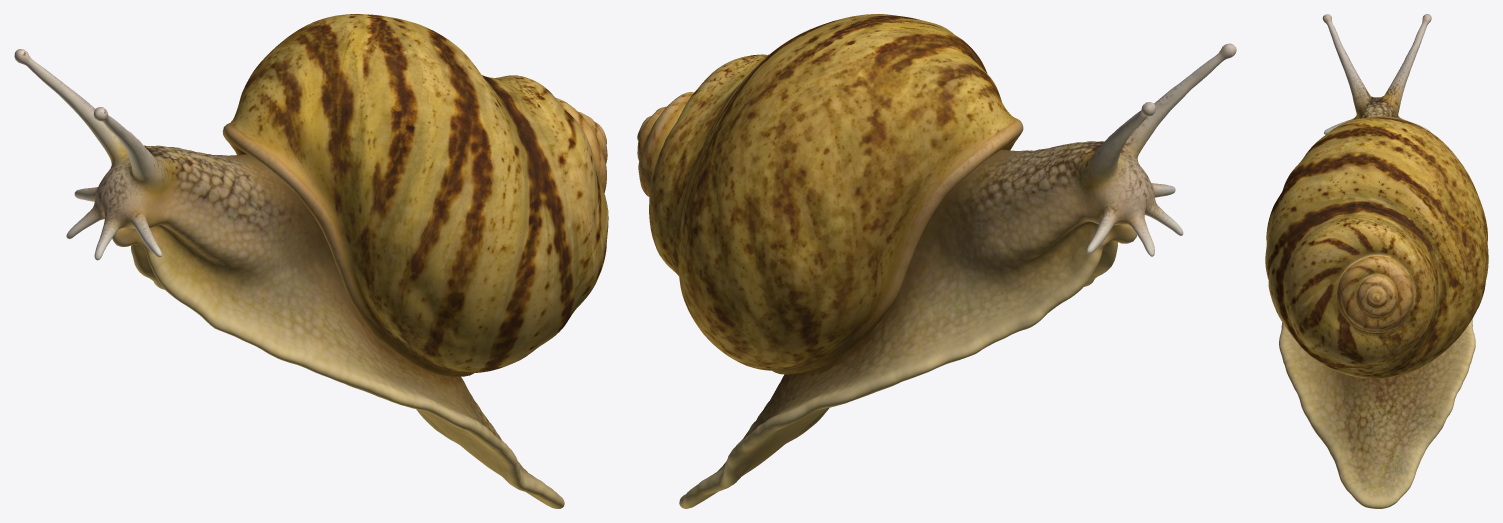
File: snail+3d+model 2.glb
The picture shows the model from 3 angles, left to right: view 1: azimuth 30°, elevation 25°; view 2: azimuth 150°, elevation 25°; view 3: azimuth 270°, elevation 25°; orthographic projection. The views are drawn at different scales.
Visible parts, largest first — view 1: tripo_node_17378bcd-b5f5-4cf7-b998-edd00bba9314; view 2: tripo_node_17378bcd-b5f5-4cf7-b998-edd00bba9314; view 3: tripo_node_17378bcd-b5f5-4cf7-b998-edd00bba9314.
Part boxes in pixels (<box>): tripo_node_17378bcd-b5f5-4cf7-b998-edd00bba9314: <box>14,14,608,508</box>; tripo_node_17378bcd-b5f5-4cf7-b998-edd00bba9314: <box>637,14,1236,508</box>; tripo_node_17378bcd-b5f5-4cf7-b998-edd00bba9314: <box>1265,14,1488,508</box>.
Bounding box in the file's own units: 0.9979 × 0.9473 × 0.5583.
1 material, 1 textured.
